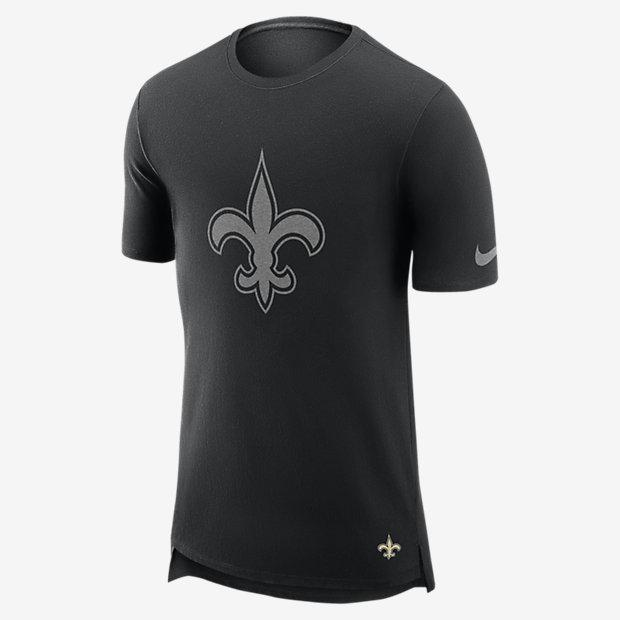teeshirt: (100, 10, 523, 620)
